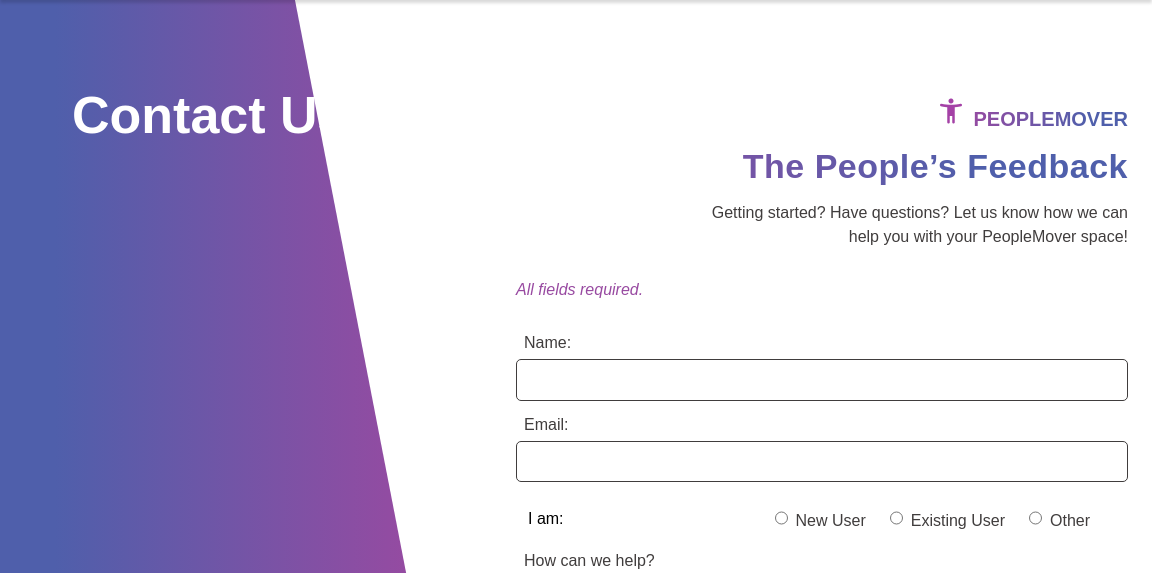
Test case: Contact Us Page › should populate and submit contact us form
In the field labelled "Name:": coordinates (822, 380) x1=516 y1=359 x2=1128 y2=401, type "Layla"
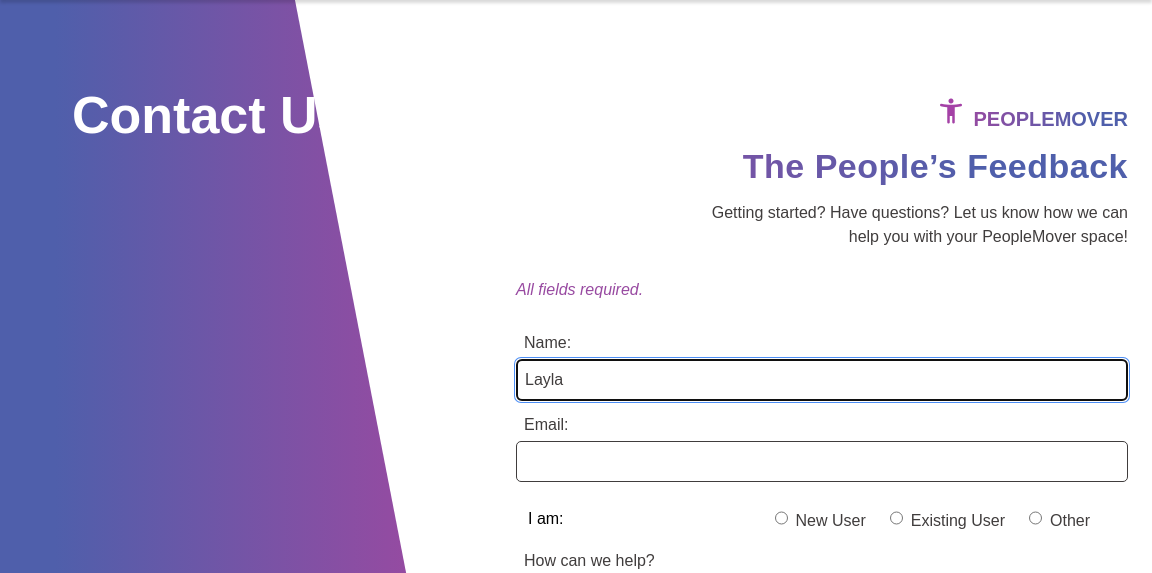
In the field labelled "Email:": coordinates (822, 461) x1=516 y1=441 x2=1128 y2=482, type "layla@abc.com"
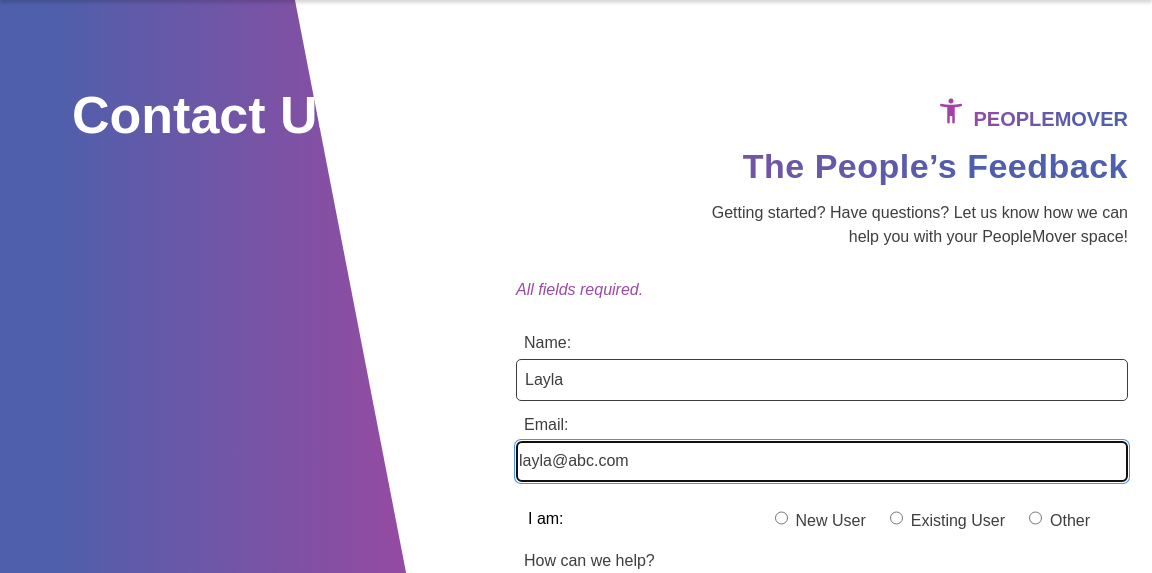
Click the radio button labelled "New User": coordinates (781, 518) x1=774 y1=510 x2=788 y2=526
(page scrolled)
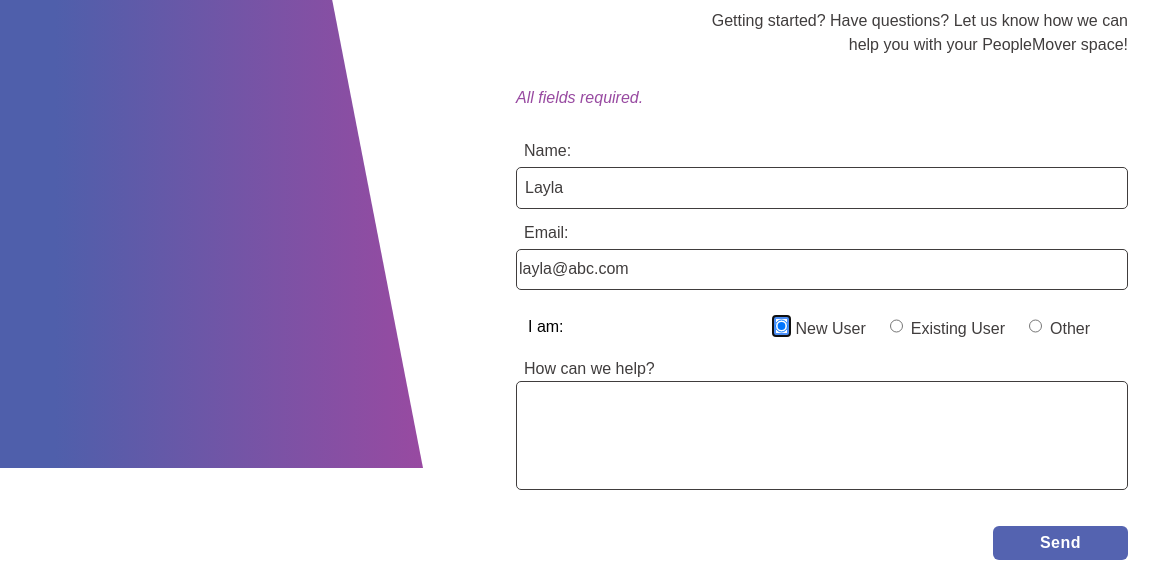
Expected: the radio button labelled "Existing User" is not checked, x1=890 y1=318 x2=903 y2=334
Expected: the radio button labelled "New User" is checked, x1=774 y1=318 x2=788 y2=334
In the text box labelled "How can we help?": coordinates (822, 435) x1=516 y1=381 x2=1128 y2=490, type "Something isn't working right."
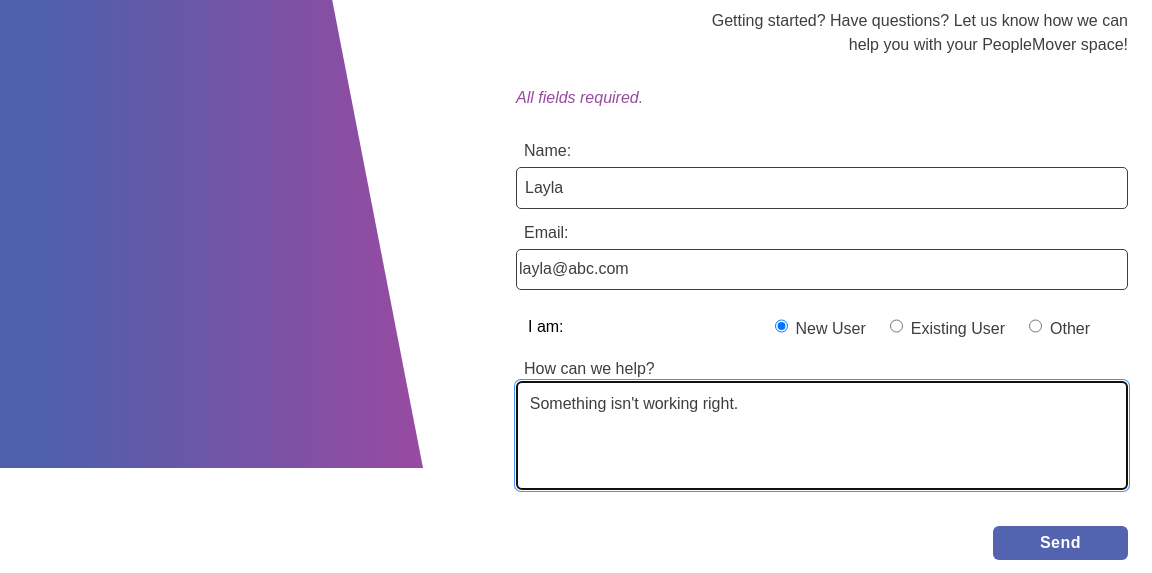
Expected: the text "Thanks! A member of our team will reach out to help you." is not shown
Click the button "Send": coordinates (1060, 543) x1=993 y1=526 x2=1128 y2=560
(page scrolled)
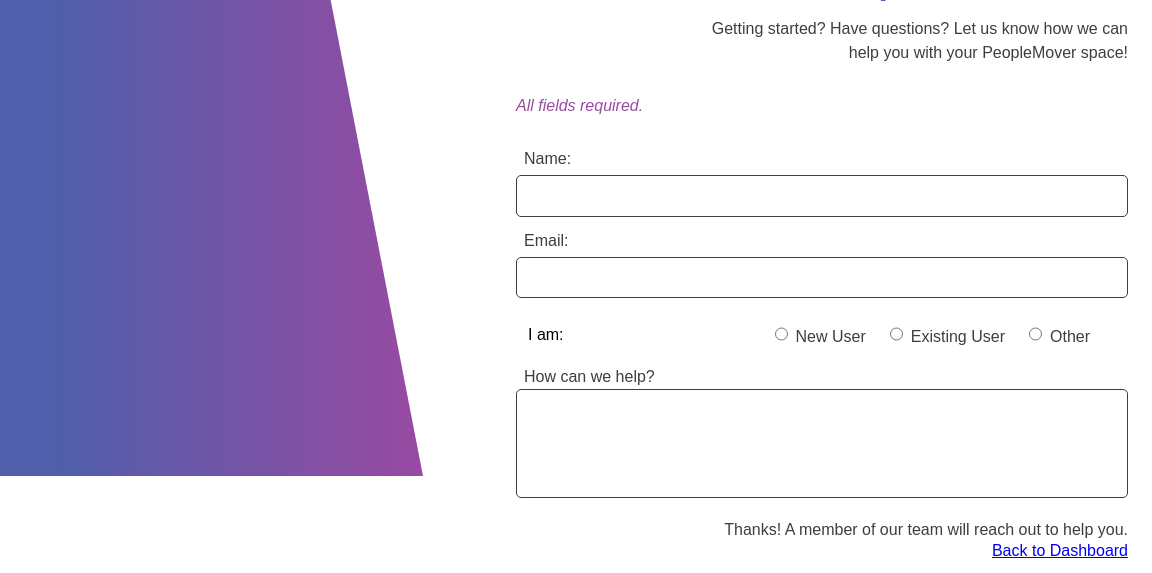
Expected: the button "Send" is gone
Expected: the text "Thanks! A member of our team will reach out to help you." is shown, x1=680 y1=518 x2=1128 y2=542
